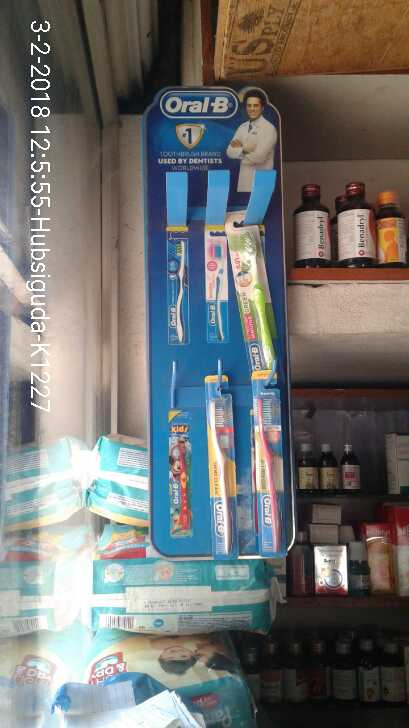oralb: (223, 214, 278, 370), (250, 370, 291, 555), (202, 374, 239, 559)
